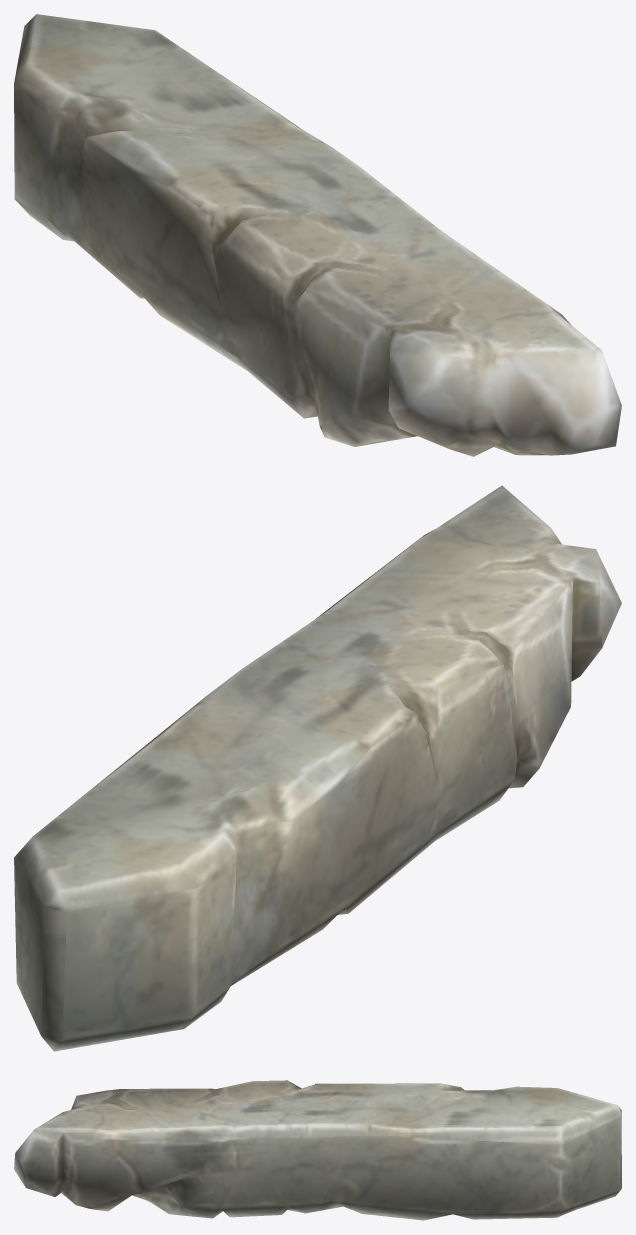
Rendered from Vd_Vulgrim_Pillar_B.fbx.
3 views of the same model, one above another, from view 1: azimuth 30°, elevation 25°; view 2: azimuth 150°, elevation 25°; view 3: azimuth 270°, elevation 25° (orthographic). The views are drawn at different scales.
Parts seen in each view (by area): view 1: Vd_Vulgrim_Pillar_B; view 2: Vd_Vulgrim_Pillar_B; view 3: Vd_Vulgrim_Pillar_B.
Part boxes in pixels (left/top/right/bottom): Vd_Vulgrim_Pillar_B: left=14, top=14, right=621, bottom=456; Vd_Vulgrim_Pillar_B: left=14, top=485, right=621, bottom=1051; Vd_Vulgrim_Pillar_B: left=14, top=1080, right=621, bottom=1220.
Size of the model in its own units: 105 by 90.73 by 513.
